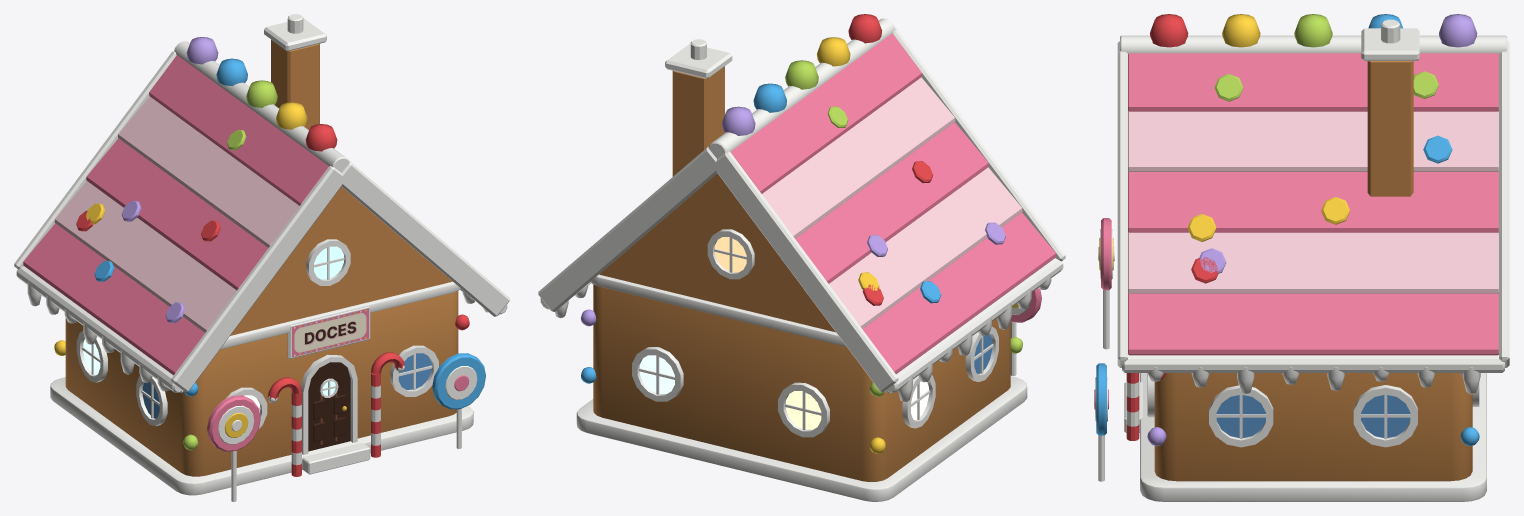
Rendered from casa_doce_rosa.glb.
The picture shows the model from 3 angles, left to right: view 1: azimuth 30°, elevation 25°; view 2: azimuth 150°, elevation 25°; view 3: azimuth 270°, elevation 25°; orthographic projection. The views are drawn at different scales.
Visible parts, largest first — view 1: casa_doce_rosa; view 2: casa_doce_rosa; view 3: casa_doce_rosa.
Boxes of the visible parts, x1,y1,x2,y2 form: casa_doce_rosa: [14, 14, 509, 501]; casa_doce_rosa: [538, 14, 1065, 501]; casa_doce_rosa: [1094, 14, 1509, 501].
Size of the model in its own units: 9.79 by 9.87 by 8.62.
Materials: 7 (2 with a texture image).
